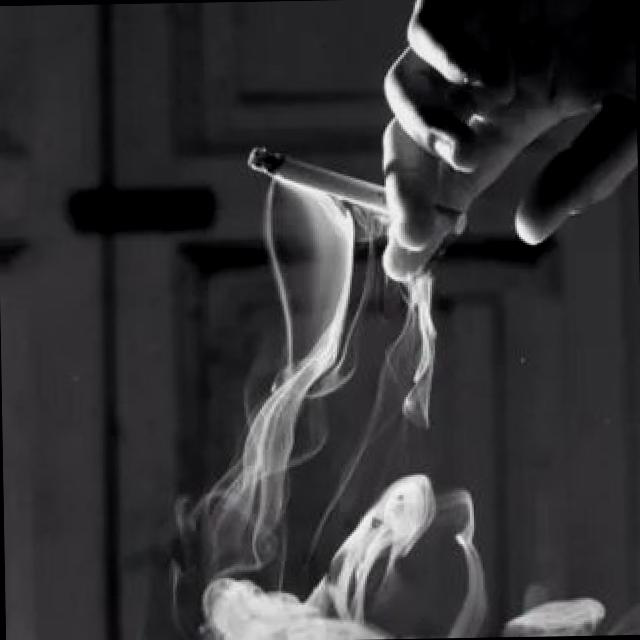smoke: (234, 130, 470, 246)
